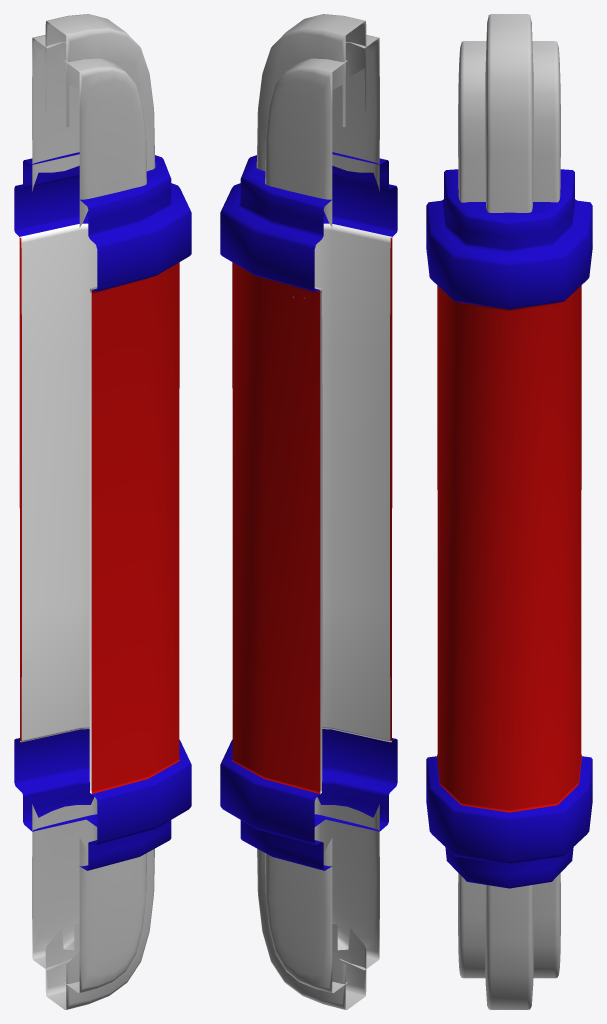
File: Hallway_lamp.fbx
3 renders of one model, left to right at view 1: azimuth 30°, elevation 25°; view 2: azimuth 150°, elevation 25°; view 3: azimuth 270°, elevation 25°, orthographic.
Parts seen in each view (by area): view 1: Hallway_lamp; view 2: Hallway_lamp; view 3: Hallway_lamp.
Boxes of the visible parts, bbox=[...] form: Hallway_lamp: bbox=[14, 14, 191, 1009]; Hallway_lamp: bbox=[220, 14, 397, 1009]; Hallway_lamp: bbox=[426, 14, 592, 1009].
Bounding box in the file's own units: 13.73 × 103 × 15.84.
